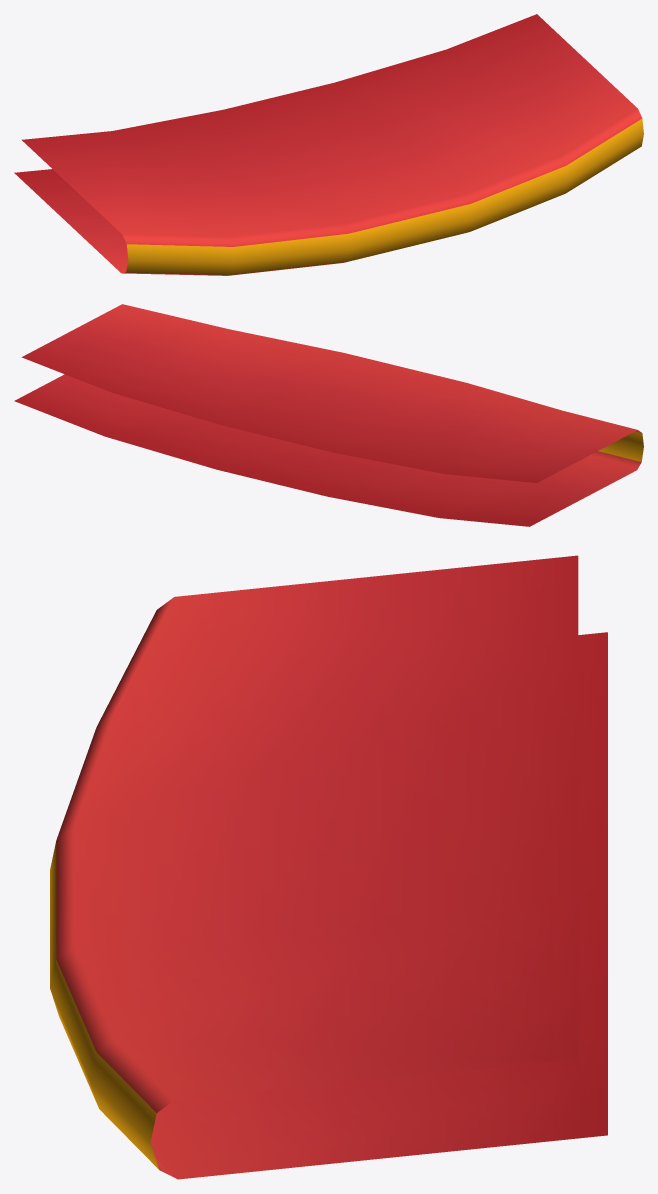
Rendered from Car_10_FrontBumper_Simple.fbx.
The picture shows the model from 3 angles, top to bottom: view 1: azimuth 30°, elevation 25°; view 2: azimuth 150°, elevation 25°; view 3: azimuth 270°, elevation 25°; orthographic projection. The views are drawn at different scales.
Parts seen in each view (by area): view 1: Car_10_FrontBumper_Simple; view 2: Car_10_FrontBumper_Simple; view 3: Car_10_FrontBumper_Simple.
Part boxes in pixels (x1,y1,x2,y2): Car_10_FrontBumper_Simple: [14, 14, 643, 275]; Car_10_FrontBumper_Simple: [14, 304, 643, 526]; Car_10_FrontBumper_Simple: [50, 555, 607, 1179].
Bounding box in the file's own units: 120 × 56.21 × 17.69.
